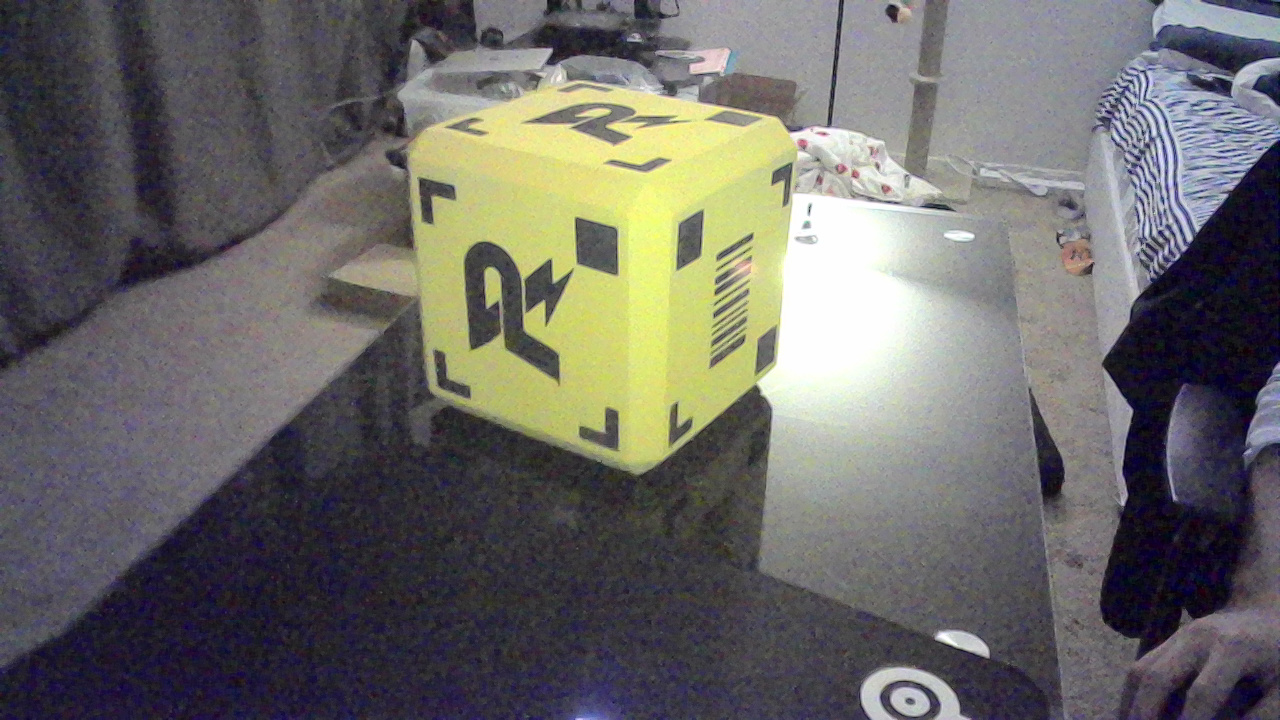Barcode: (715, 246, 764, 376)
R: (469, 247, 583, 380), (547, 99, 683, 151)
